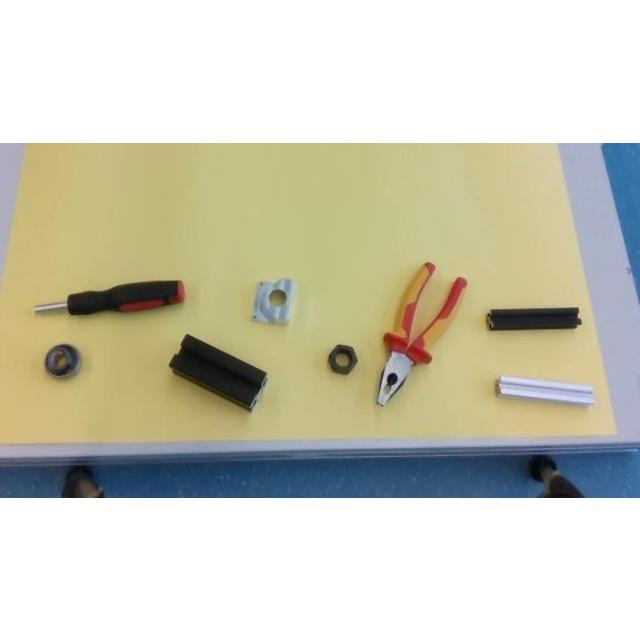Bearing2: (44, 342, 80, 378)
F20_20_B: (487, 307, 581, 329)
F20_20_G: (496, 374, 596, 406)
M20: (328, 343, 358, 373)
S40_40_B: (169, 334, 267, 410)
